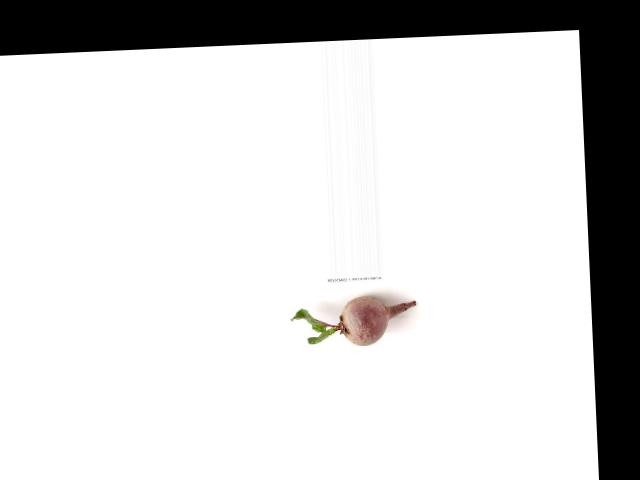beet: (289, 294, 416, 348)
